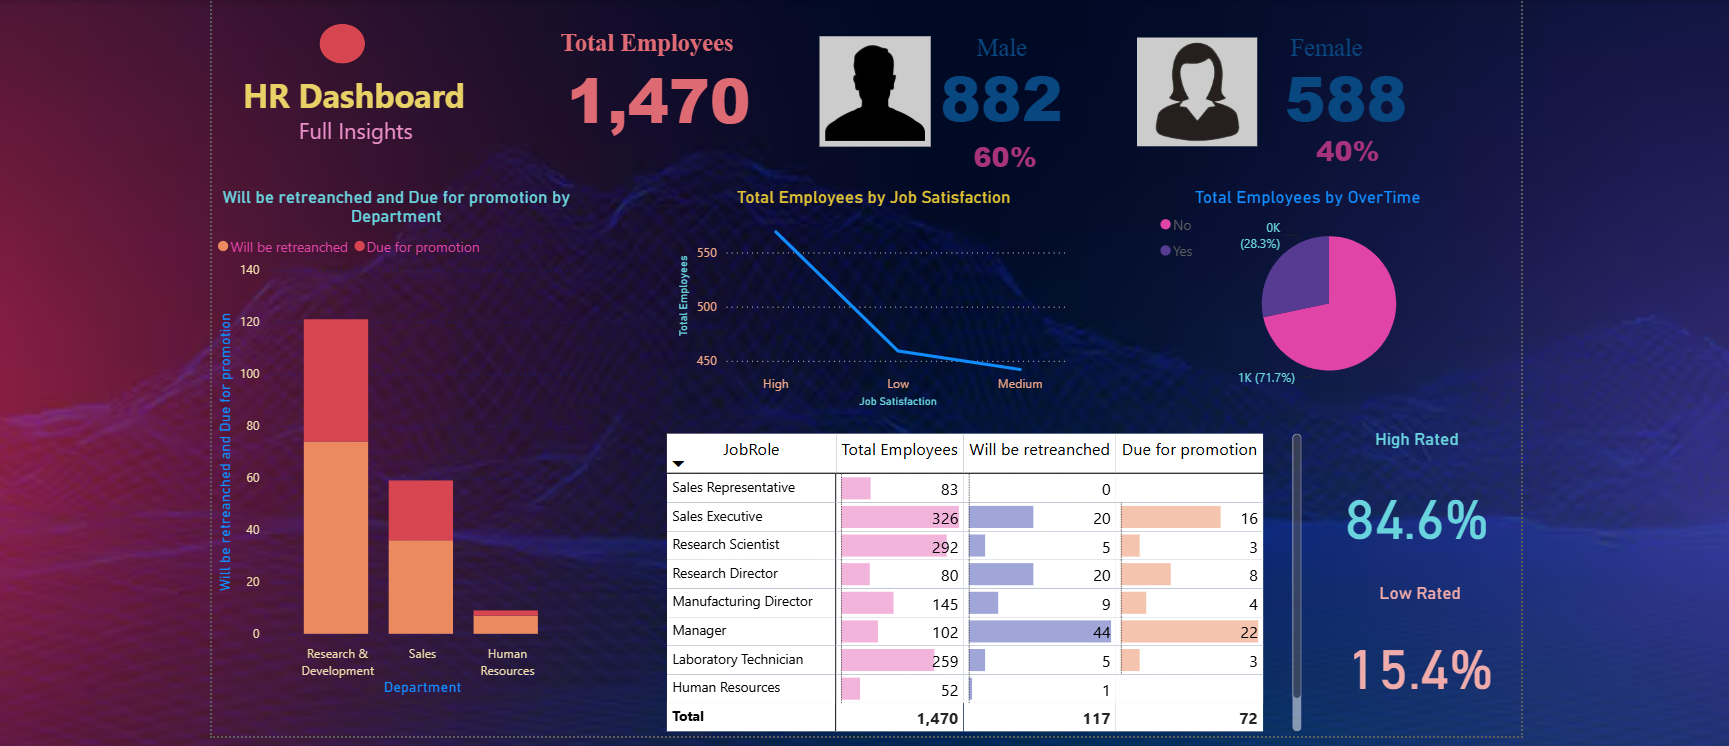

What the dashboard file says about the page in this screenshot:
{"tool":"powerbi","page":{"name":"Action","canvas":[1280,720],"ordinal":1},"visuals":[{"type":"columnChart","fields":{"Category":["HR Analytics Data.Department"],"Y":["All Measures.Will be retreanched","All Measures.Due for promotion"]},"box":[0,182.2,360.7,502.6],"z":0},{"type":"lineChart","fields":{"Category":["HR Analytics Data.Job Satisfaction"],"Y":["All Measures.Total Employees"]},"box":[451.2,182.2,392.5,221.3],"z":3000},{"type":"pieChart","fields":{"Category":["HR Analytics Data.OverTime"],"Y":["All Measures.Total Employees"]},"box":[922,182.2,299.6,210.3],"z":4000},{"type":"pivotTable","fields":{"Values":["All Measures.Total Employees","All Measures.Will be retreanched","All Measures.Due for promotion"],"Rows":["HR Analytics Data.JobRole"]},"box":[440.2,419.4,631,300.8],"z":5000},{"type":"card","title":"High Rated","fields":{"Values":["All Measures.% High emp rating"]},"box":[1088.3,419.4,181,145.5],"z":6000},{"type":"card","title":"Low Rated","fields":{"Values":["All Measures.% Low emp rating"]},"box":[1100.5,569.8,162.6,138.2],"z":7000},{"type":"textbox","box":[13,66.5,250.7,53.8],"z":8000},{"type":"textbox","box":[27.7,108.1,225,40.4],"z":9000},{"type":"card","fields":{"Values":["All Measures.Total Emp"]},"box":[326.5,26.9,221.3,135.7],"z":10000},{"type":"card","fields":{"Values":["All Measures.Male"]},"box":[701.4,36.1,141.3,111.1],"z":11000},{"type":"card","fields":{"Values":["All Measures.% male"]},"box":[739.9,126.7,72.7,54.9],"z":12000},{"type":"textbox","box":[303.3,23.2,244.6,51.4],"z":13000},{"type":"textbox","box":[735.7,27.9,72.7,43.9],"z":14000},{"type":"card","fields":{"Values":["All Measures.Female"]},"box":[1040.6,47.7,138.2,89.3],"z":15000},{"type":"card","fields":{"Values":["All Measures.% Female"]},"box":[1071.2,127.2,80.7,41.6],"z":16000},{"type":"image","box":[593.8,35.9,108.9,107.6],"z":17000},{"type":"image","box":[904.9,36.7,117.4,106.4],"z":18000},{"type":"shape","box":[105.8,22.9,44.5,39],"z":19000},{"type":"textbox","box":[1028.4,28.1,123.5,44],"z":20000}]}

Visuals, with their boxes on the page's 1280x720 design canvas (x1, y1, x2, y2). These are canvas units, not pixel positions in the 1729x746 screenshot, which may show the page scaled, cropped or inside an application window:
columnChart - HR Analytics Data.Department x All Measures.Will be retreanched: 0:182:361:685
lineChart - HR Analytics Data.Job Satisfaction x All Measures.Total Employees: 451:182:844:404
pieChart - HR Analytics Data.OverTime x All Measures.Total Employees: 922:182:1222:392
pivotTable - All Measures.Total Employees x All Measures.Will be retreanched: 440:419:1071:720
"High Rated" card: 1088:419:1269:565
"Low Rated" card: 1100:570:1263:708
textbox: 13:66:264:120
textbox: 28:108:253:148
card - All Measures.Total Emp: 326:27:548:163
card - All Measures.Male: 701:36:843:147
card - All Measures.% male: 740:127:813:182
textbox: 303:23:548:75
textbox: 736:28:808:72
card - All Measures.Female: 1041:48:1179:137
card - All Measures.% Female: 1071:127:1152:169
image: 594:36:703:144
image: 905:37:1022:143
shape: 106:23:150:62
textbox: 1028:28:1152:72
